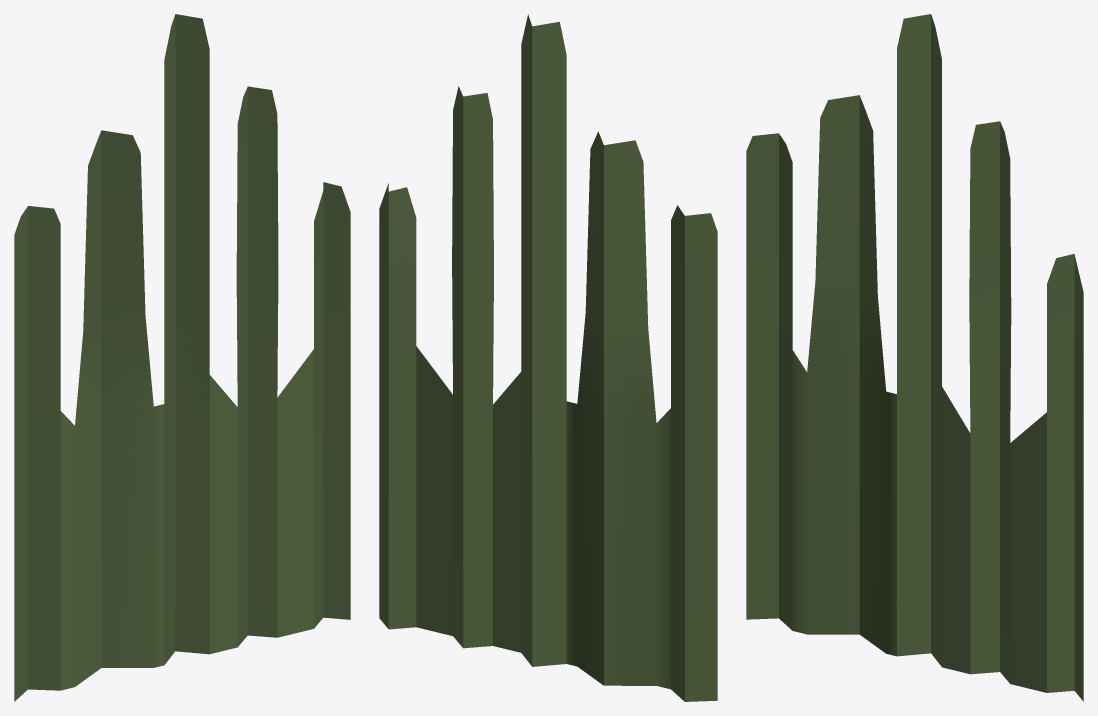
The model's file is SM_Grass_Plane_02.fbx.
3 renders of one model, left to right at view 1: azimuth 30°, elevation 25°; view 2: azimuth 150°, elevation 25°; view 3: azimuth 330°, elevation 25°, orthographic.
Parts seen in each view (by area): view 1: SM_Grass_Plane_02; view 2: SM_Grass_Plane_02; view 3: SM_Grass_Plane_02.
Boxes of the visible parts, x1,y1,x2,y2 form: SM_Grass_Plane_02: (14,14,350,701); SM_Grass_Plane_02: (379,14,717,701); SM_Grass_Plane_02: (746,14,1083,701).
Bounding box in the file's own units: 58.16 × 105 × 3.88.
